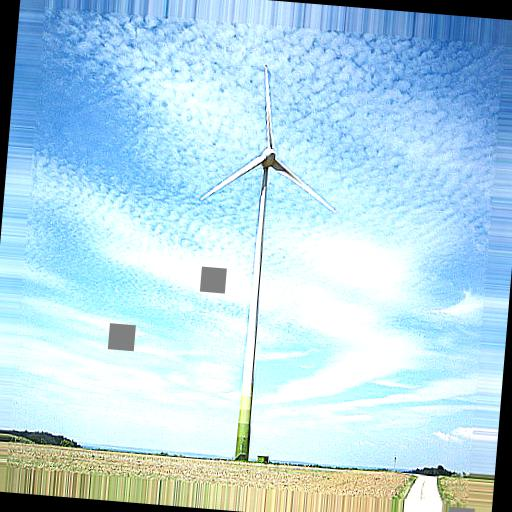wind turbine: (199, 64, 338, 464)
